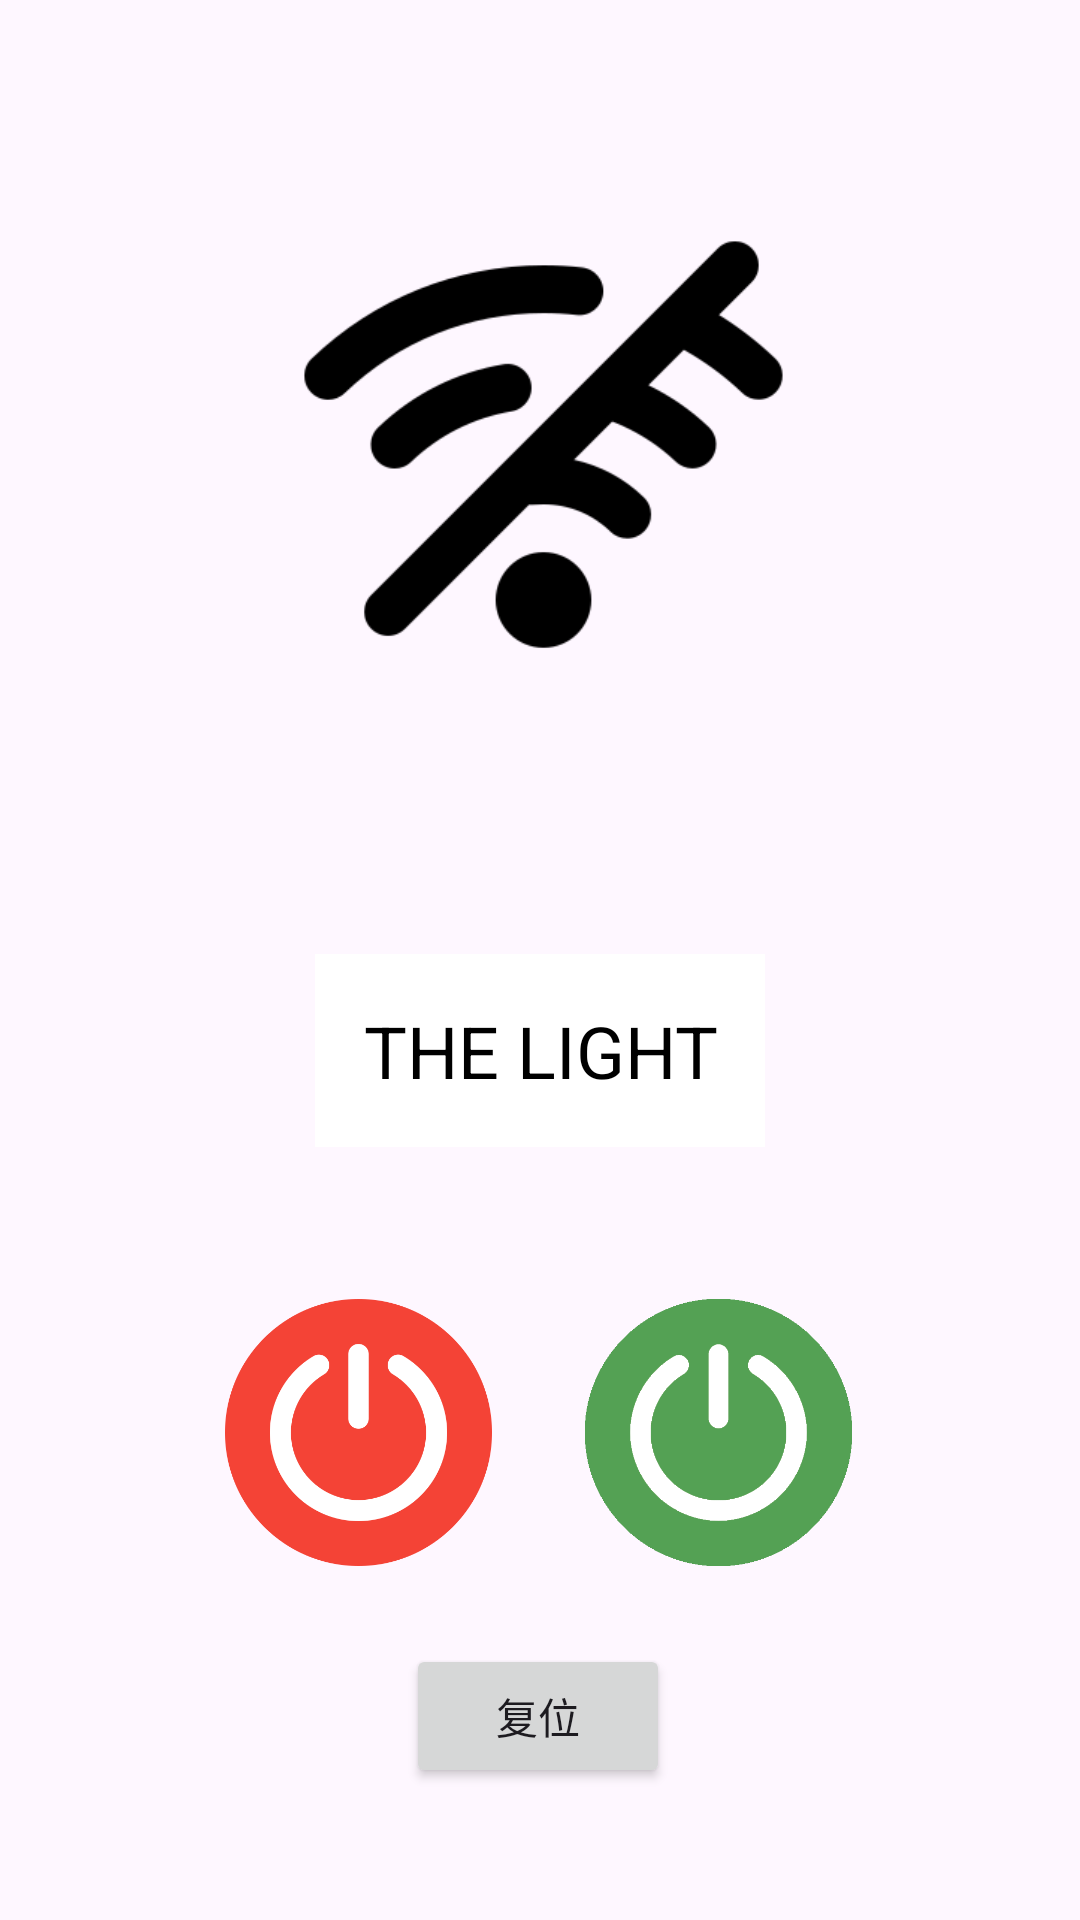

Icon click points for this 1080×1920 phone screenshot, format point (x, y):
power: point (358, 1432)
power on: point (718, 1432)
